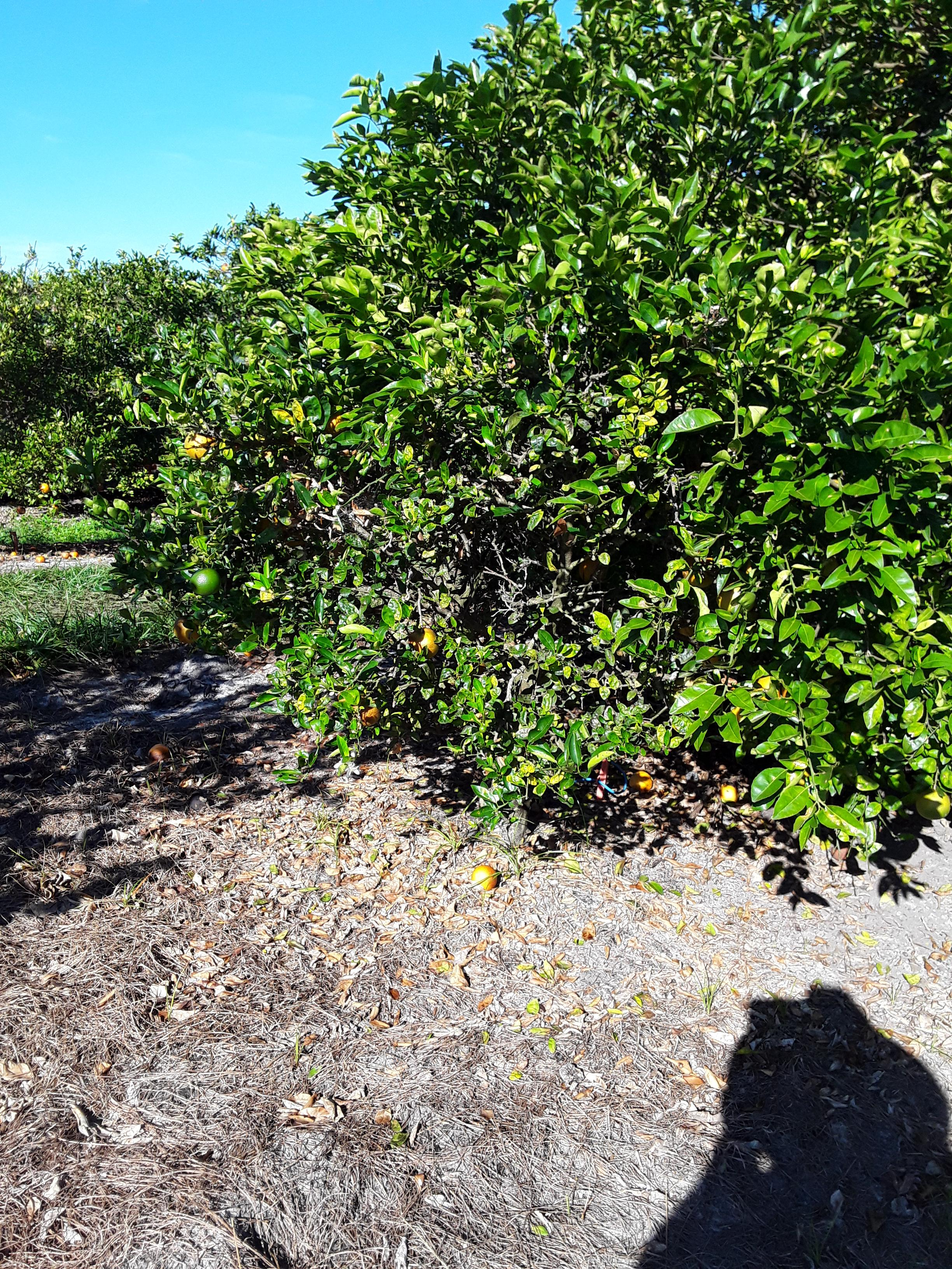fruit_on_ground: (911, 780, 951, 829), (182, 427, 217, 463), (191, 560, 222, 596), (413, 620, 440, 657), (577, 554, 604, 584), (307, 451, 334, 474), (364, 700, 385, 727), (174, 619, 194, 642), (36, 481, 52, 495), (15, 504, 26, 516)
fruit_on_tree: (630, 764, 655, 795), (715, 780, 740, 808), (474, 864, 498, 893), (152, 746, 170, 768), (33, 553, 46, 566), (69, 550, 82, 561), (26, 545, 38, 554), (61, 550, 71, 560), (18, 554, 28, 563), (8, 552, 17, 561), (0, 554, 5, 563)
